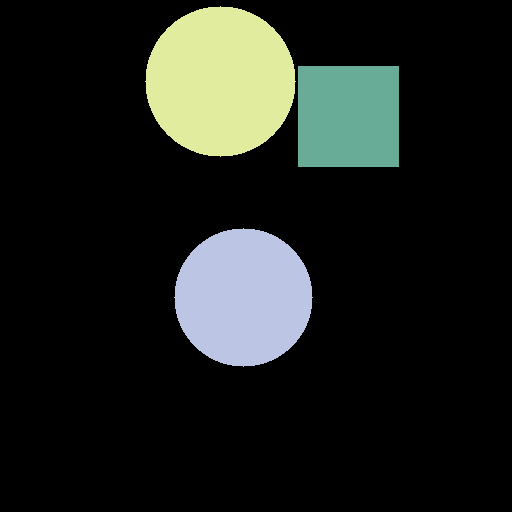circle: (145, 6, 295, 156), (174, 228, 312, 366)
square: (298, 66, 398, 166)
